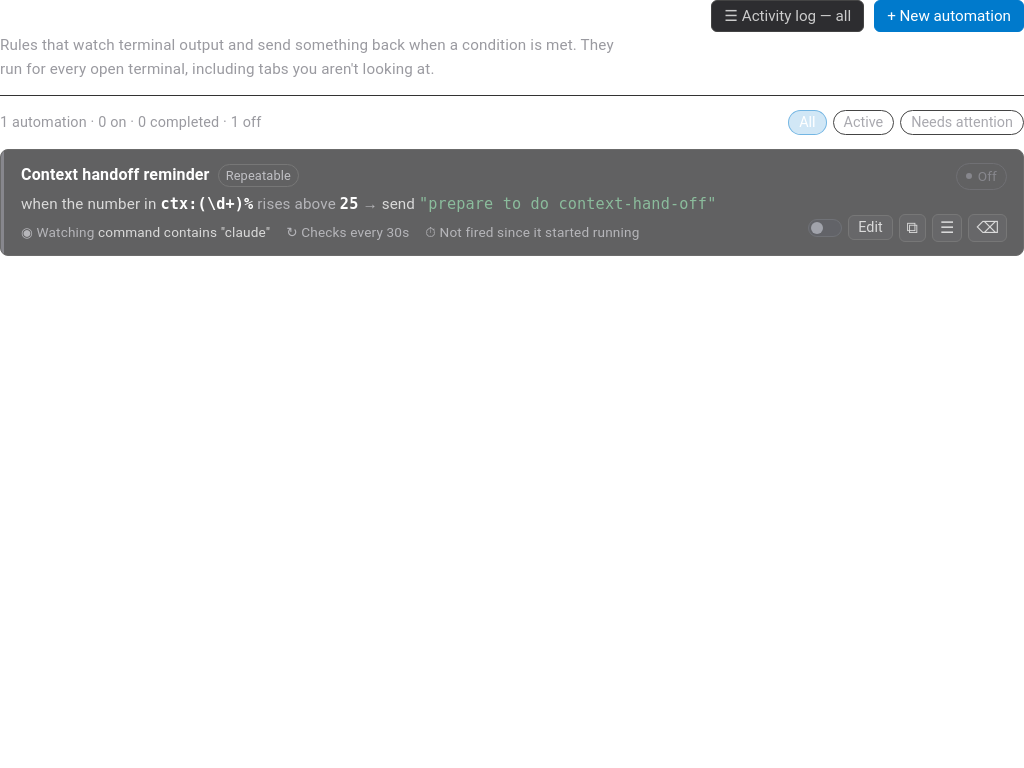
Test: runsOnce, on both surfaces › changing it in the editor changes the editor, and NOT the saved row
The image size is (1024, 768).
What coordinates should you click on to do the following:
click the button with class "au-btn" showing "Edit"
I would click on:
 (870, 228)
Its box is top-left (848, 215), bottom-right (893, 240).
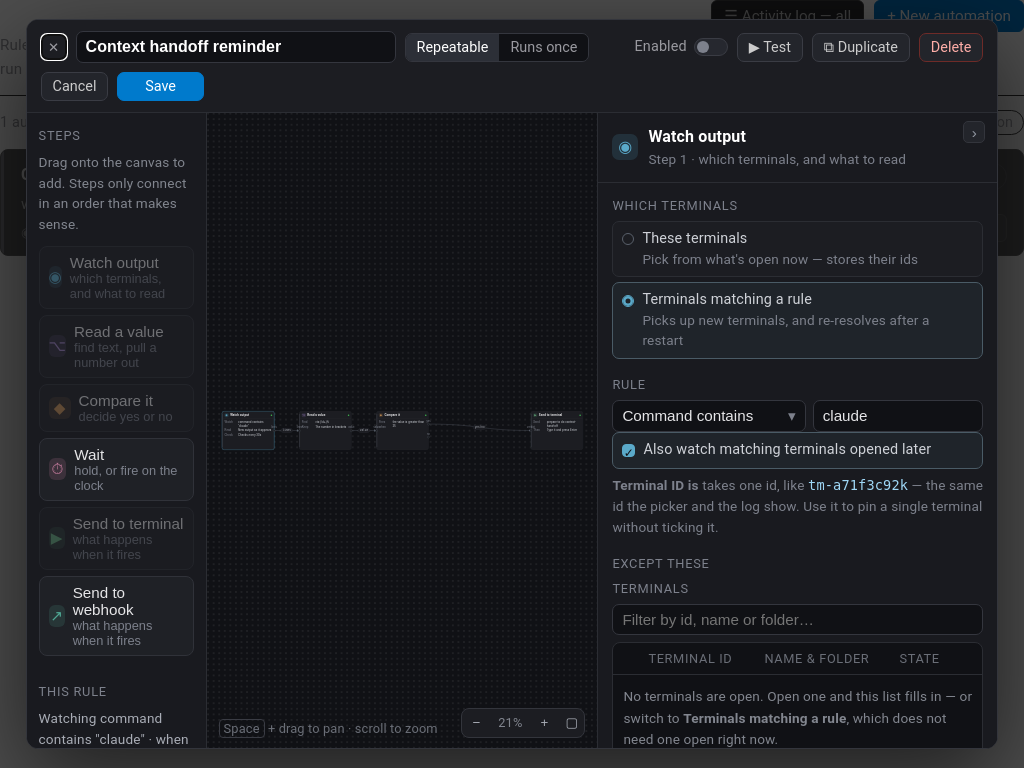
What coordinates should you click on to do the following:
click the button "Runs once"
I would click on:
 (544, 47)
Its box is top-left (499, 34), bottom-right (588, 61).
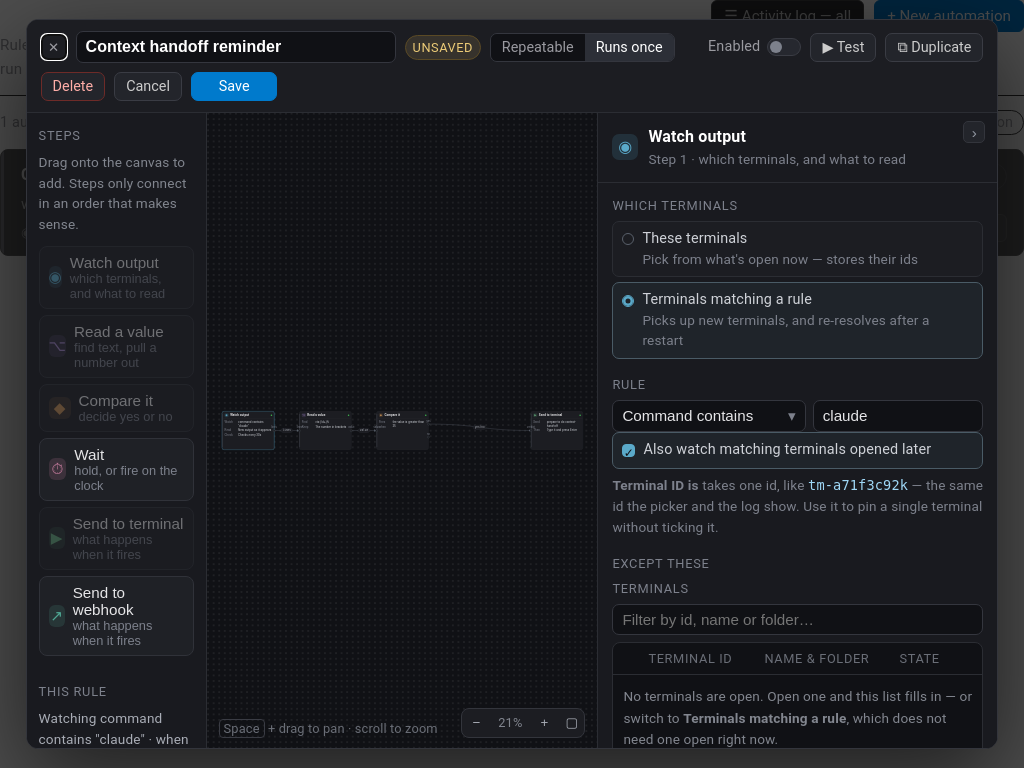
Check: the text "unsaved" is shown, box top-left (405, 35), bottom-right (481, 60)
